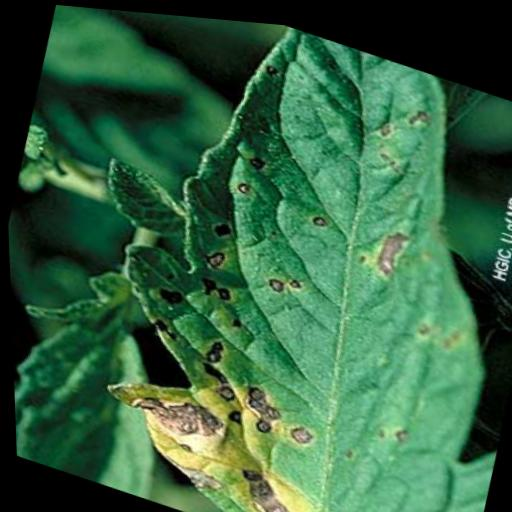Early Blight: (60, 4, 512, 512)
